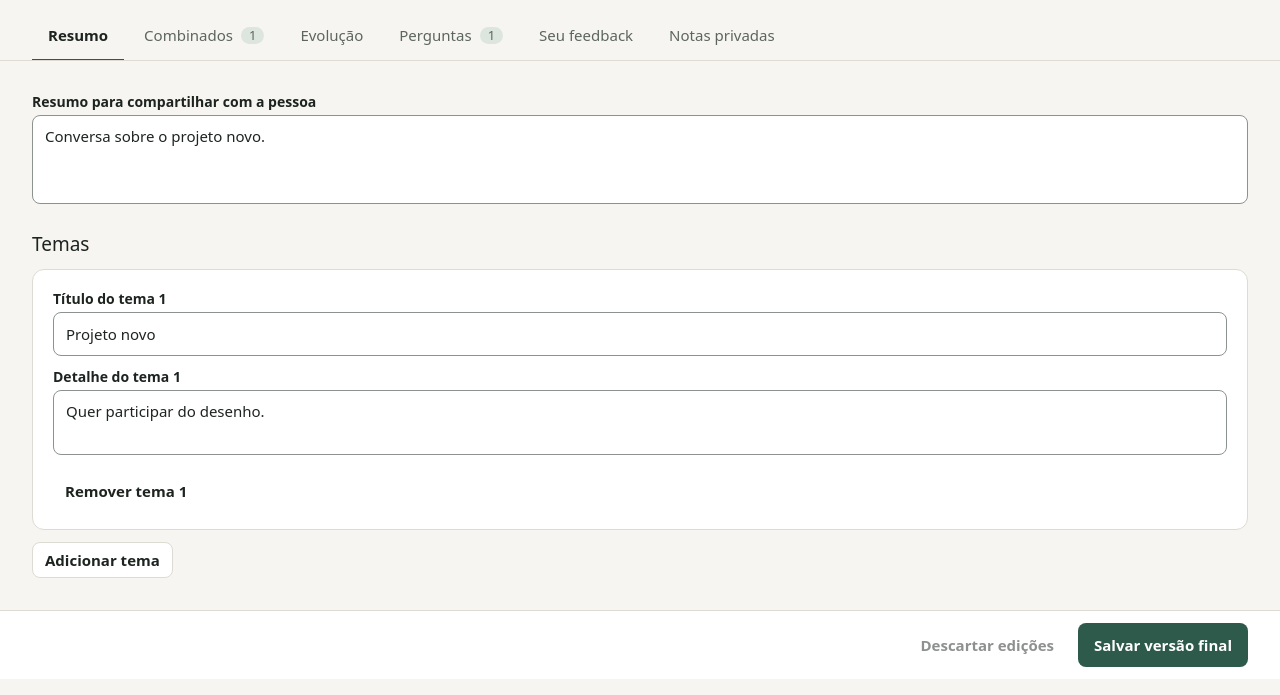
ReviewEditor › sinais de evolução por responsabilidade › deve oferecer as responsabilidades atuais e "Fora das responsabilidades" (sem as aposentadas)
Click the tab "Evolução": (332, 36) [284,12,379,60]
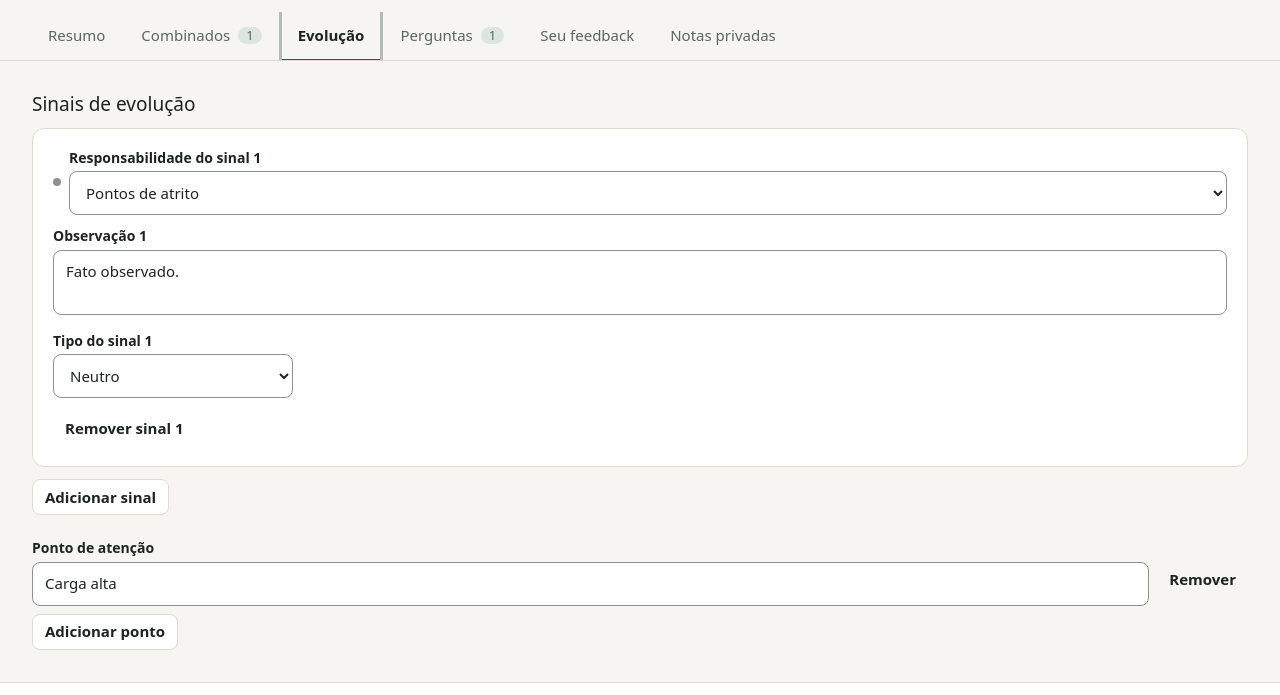
Check: the dropdown labelled "Responsabilidade do sinal 1" shows "Pontos de atrito", box [69,171,1227,215]
